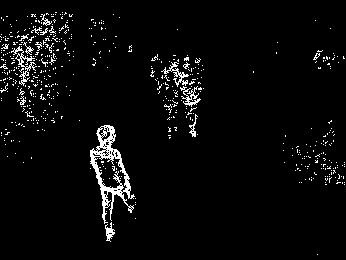person: (88, 122, 139, 244), (149, 52, 182, 140), (179, 55, 210, 140)
